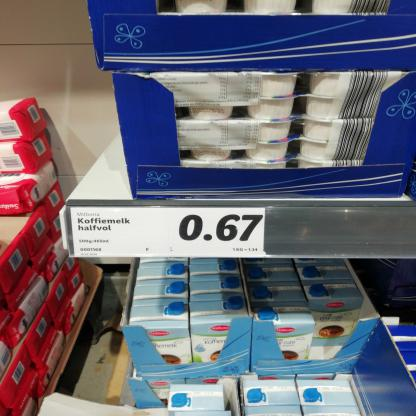prtg: (71, 209, 267, 259)
